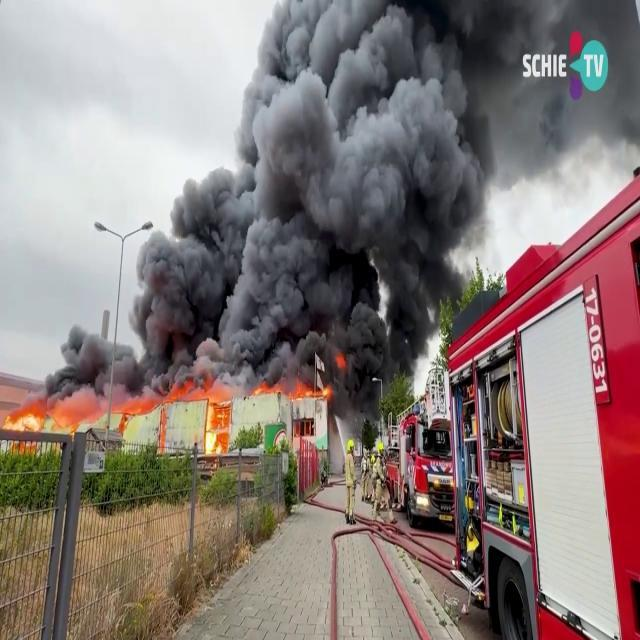Fire: (3, 392, 310, 454)
Smoke: (59, 0, 567, 384)
